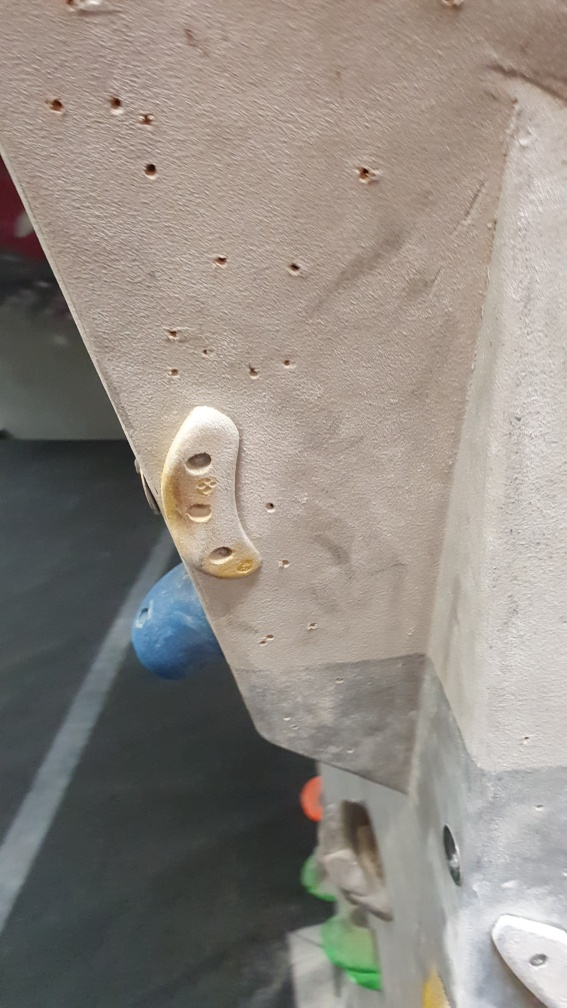Crimp: (158, 402, 278, 578), (486, 907, 566, 1001)
Hand Start: (435, 816, 470, 887)
Jug: (319, 800, 413, 920)
